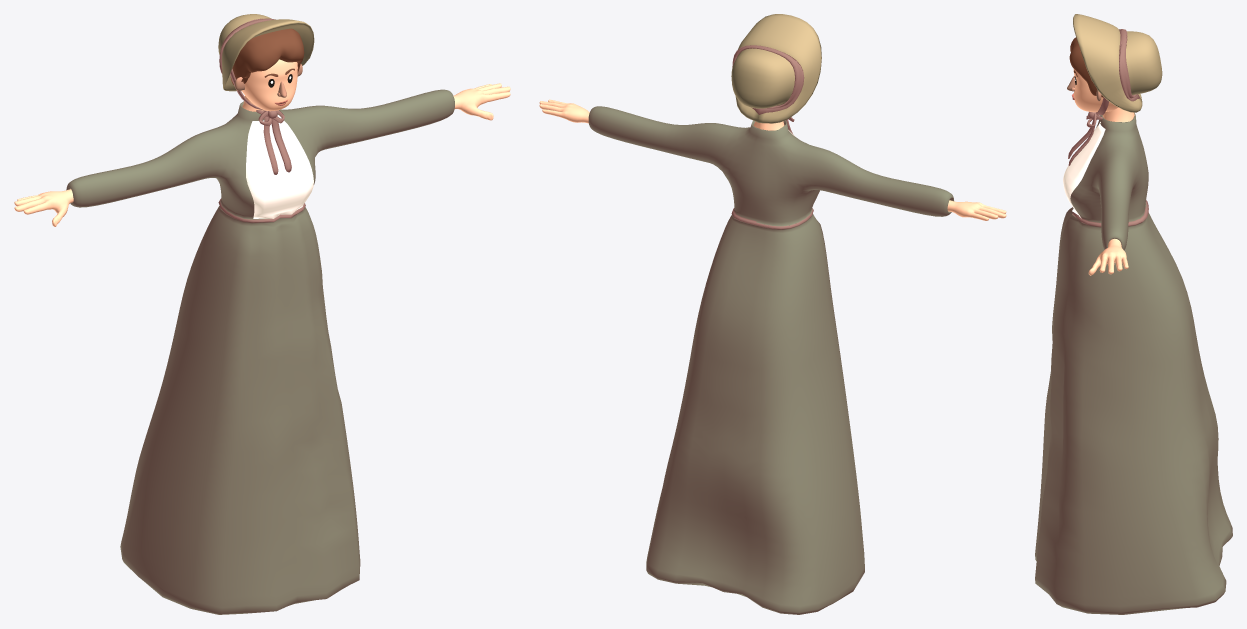
The picture shows the model from 3 angles, left to right: view 1: azimuth 30°, elevation 25°; view 2: azimuth 150°, elevation 25°; view 3: azimuth 270°, elevation 25°; orthographic projection. The views are drawn at different scales.
Parts seen in each view (by area): view 1: lapel.002; view 2: lapel.002; view 3: lapel.002.
Boxes of the visible parts, x1=… form: lapel.002: x1=14, y1=14, x2=510, y2=614; lapel.002: x1=539, y1=14, x2=1006, y2=614; lapel.002: x1=1035, y1=14, x2=1232, y2=614.
Size of the model in its own units: 1.87 by 2.06 by 0.6641.
